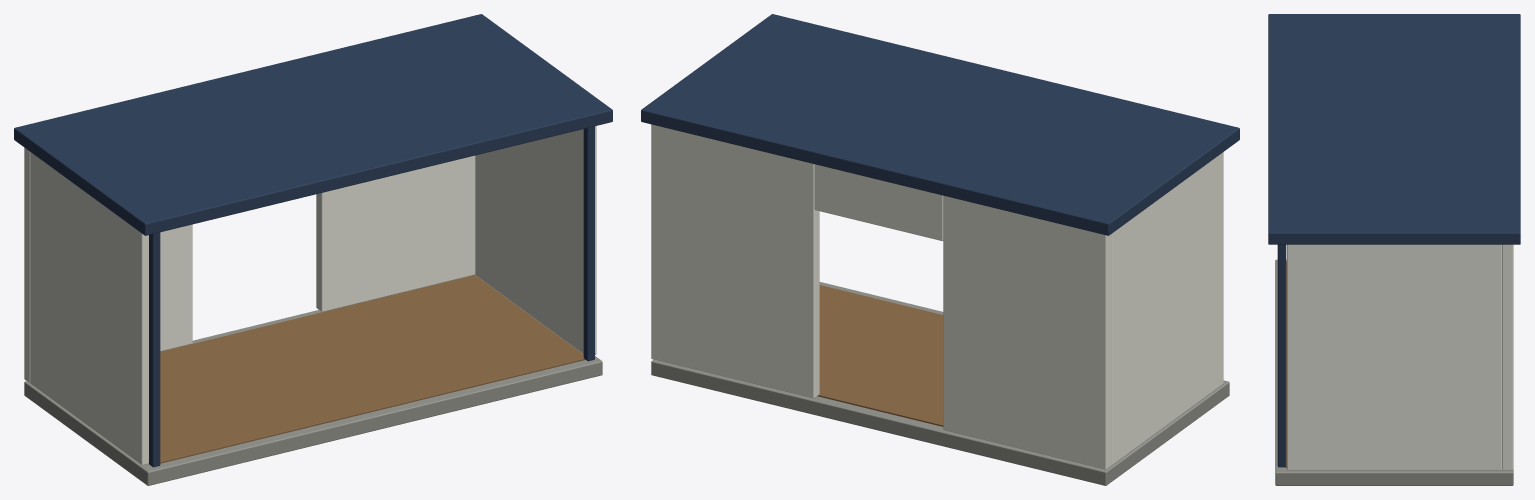
File: planetarium-and-optical-observatory-roofed-planetarium-c5af7abb__31821.glb
3 views of the same model, side by side, from view 1: azimuth 30°, elevation 25°; view 2: azimuth 150°, elevation 25°; view 3: azimuth 270°, elevation 25° (orthographic). The views are drawn at different scales.
Parts seen in each view (by area): view 1: roofed-planetarium-foyer; view 2: roofed-planetarium-foyer; view 3: roofed-planetarium-foyer.
Boxes of the visible parts, x1,y1,x2,y2 form: roofed-planetarium-foyer: (14, 14, 612, 485); roofed-planetarium-foyer: (641, 14, 1239, 485); roofed-planetarium-foyer: (1268, 14, 1520, 485).
Bounding box in the file's own units: 5.45 × 2.97 × 2.65.
